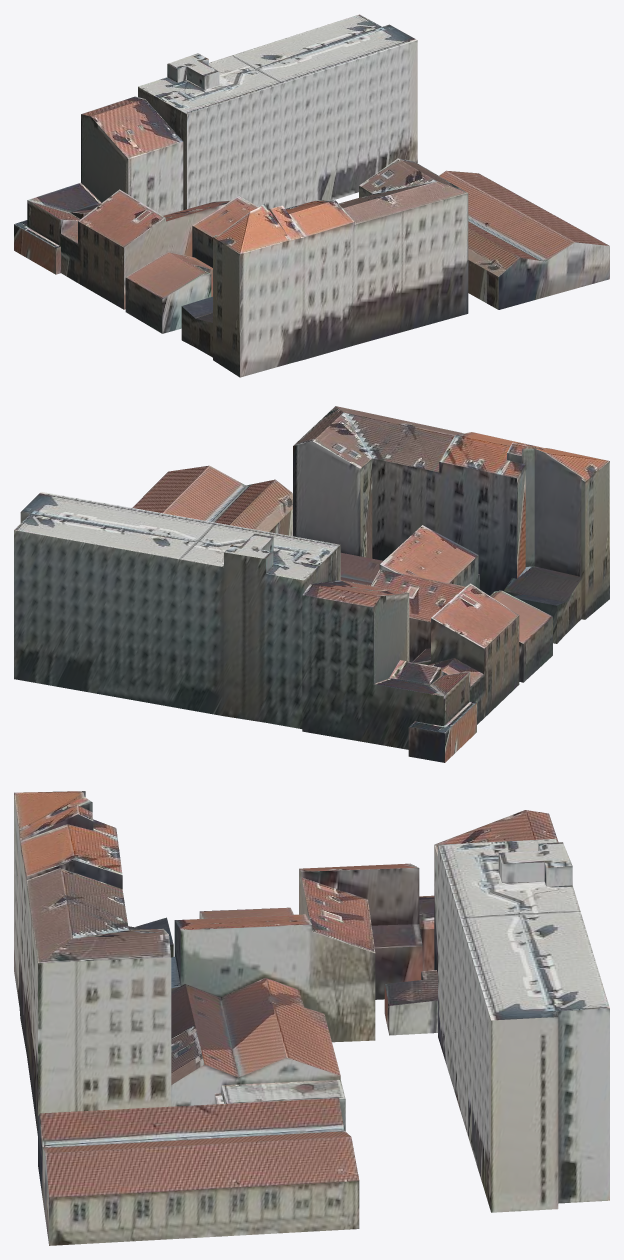
The model's file is LYON_1ER_00005.dae.
3 renders of one model, top to bottom at view 1: azimuth 30°, elevation 25°; view 2: azimuth 150°, elevation 25°; view 3: azimuth 270°, elevation 25°, orthographic. The views are drawn at different scales.
Size of the model in its own units: 77.1 by 65.28 by 26.19.
1 material, 1 textured.
